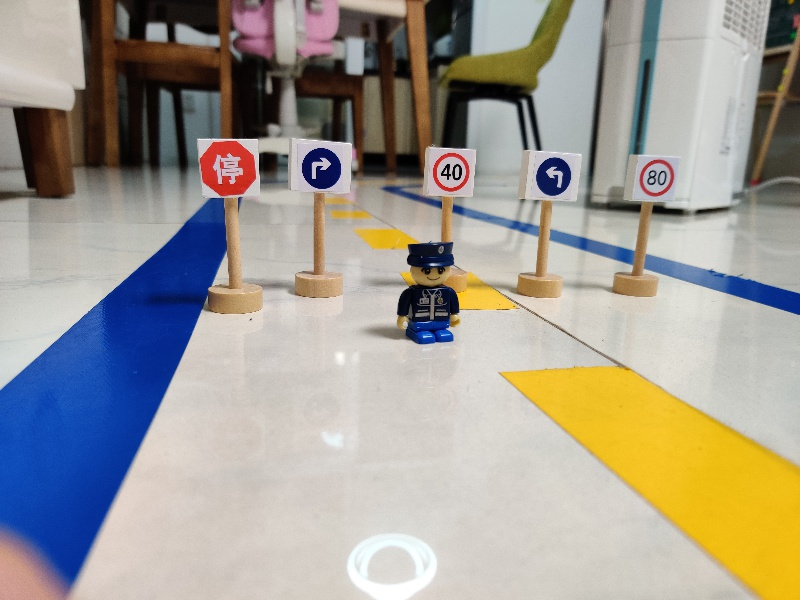limit_40: (422, 145, 478, 199)
limit_80: (621, 153, 679, 204)
person: (392, 239, 463, 349)
stop: (193, 134, 261, 201)
turn_left: (518, 148, 582, 202)
turn_right: (284, 137, 354, 196)
